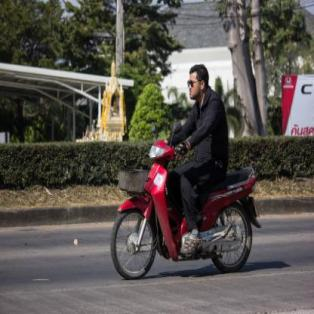Motocicleta: (110, 130, 264, 281)
